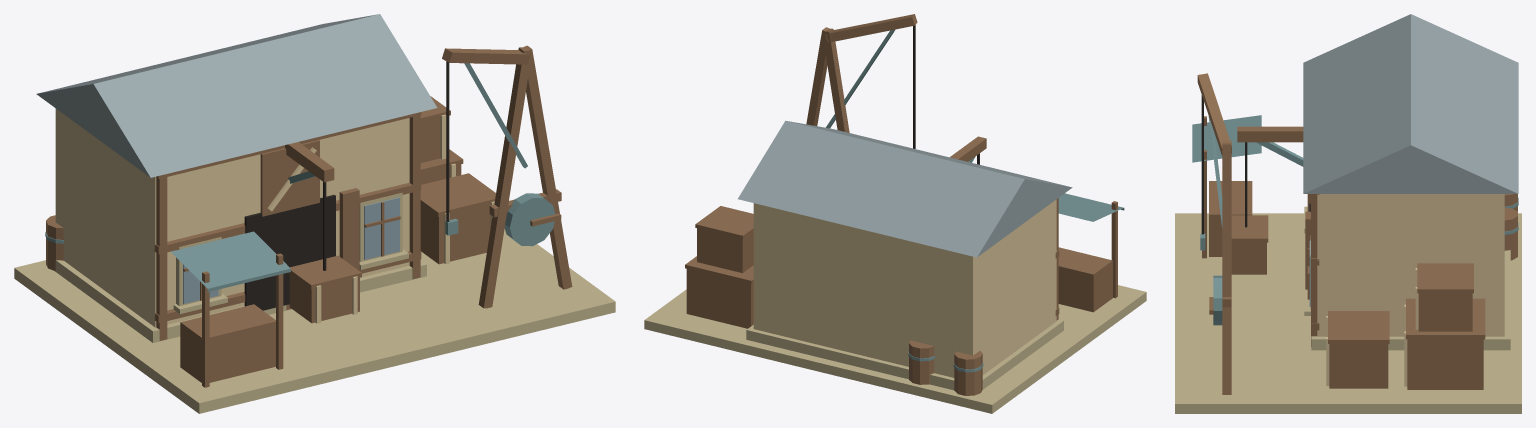
Rendered from era2-wharf-7XEkzWx8.glb.
3 renders of one model, left to right at view 1: azimuth 30°, elevation 25°; view 2: azimuth 150°, elevation 25°; view 3: azimuth 270°, elevation 25°, orthographic. The views are drawn at different scales.
Visible parts, largest first — view 1: Wharf_StoreRoof, Wharf_Yard, Wharf_Store, Wharf_TallyDesk, Wharf_CargoRecess, Wharf_CanvasAwning, Wharf_DerrickLeg, Wharf_StorePlinth, Wharf_StackCBody, Wharf_DerrickLeg.001, Wharf_LoftDoor, Wharf_StackCLid (+20 smaller); view 2: Wharf_Store, Wharf_StoreRoof, Wharf_Yard, Wharf_StorePlinth, Wharf_StackABody, Wharf_TallyDesk, Wharf_StackBBody, Wharf_StackBLid, Wharf_DerrickLeg, Wharf_Barrel, Wharf_CanvasAwning, Wharf_DerrickBoom (+6 smaller); view 3: Wharf_StoreRoof, Wharf_Yard, Wharf_Store, Wharf_StackABody, Wharf_StackCBody, Wharf_DerrickLeg.001, Wharf_StackBBody, Wharf_StackCLid, Wharf_StackBLid, Wharf_CanvasAwning, Wharf_TallyDesk, Wharf_StackALid (+13 smaller).
Boxes of the visible parts, x1=… form: Wharf_StoreRoof: x1=36, y1=14, x2=437, y2=177; Wharf_Yard: x1=14, y1=229, x2=615, y2=413; Wharf_Store: x1=55, y1=108, x2=409, y2=327; Wharf_TallyDesk: x1=180, y1=304, x2=275, y2=382; Wharf_CargoRecess: x1=244, y1=194, x2=335, y2=310; Wharf_CanvasAwning: x1=171, y1=231, x2=290, y2=291; Wharf_DerrickLeg: x1=478, y1=47, x2=531, y2=308; Wharf_StorePlinth: x1=55, y1=260, x2=426, y2=342; Wharf_StackCBody: x1=420, y1=204, x2=490, y2=264; Wharf_DerrickLeg.001: x1=523, y1=45, x2=572, y2=289; Wharf_LoftDoor: x1=260, y1=140, x2=319, y2=216; Wharf_StackCLid: x1=420, y1=173, x2=495, y2=216; Wharf_Store: x1=753, y1=199, x2=1056, y2=377; Wharf_StoreRoof: x1=738, y1=120, x2=1072, y2=257; Wharf_Yard: x1=644, y1=285, x2=1146, y2=413; Wharf_StorePlinth: x1=746, y1=319, x2=1063, y2=390; Wharf_StackABody: x1=686, y1=269, x2=753, y2=328; Wharf_TallyDesk: x1=1058, y1=247, x2=1112, y2=312; Wharf_StackBBody: x1=697, y1=228, x2=753, y2=272; Wharf_StackBLid: x1=695, y1=206, x2=753, y2=239; Wharf_DerrickLeg: x1=822, y1=28, x2=849, y2=132; Wharf_Barrel: x1=954, y1=351, x2=982, y2=395; Wharf_CanvasAwning: x1=1058, y1=193, x2=1124, y2=221; Wharf_DerrickBoom: x1=825, y1=14, x2=917, y2=42; Wharf_StoreRoof: x1=1303, y1=14, x2=1518, y2=193; Wharf_Yard: x1=1175, y1=213, x2=1521, y2=413; Wharf_Store: x1=1317, y1=194, x2=1504, y2=336; Wharf_StackABody: x1=1407, y1=339, x2=1483, y2=389; Wharf_StackCBody: x1=1329, y1=344, x2=1388, y2=388; Wharf_DerrickLeg.001: x1=1222, y1=143, x2=1231, y2=394; Wharf_StackBBody: x1=1418, y1=293, x2=1472, y2=331; Wharf_StackCLid: x1=1328, y1=311, x2=1389, y2=343; Wharf_StackBLid: x1=1417, y1=263, x2=1473, y2=293; Wharf_CanvasAwning: x1=1192, y1=115, x2=1261, y2=162; Wharf_TallyDesk: x1=1209, y1=181, x2=1252, y2=256; Wharf_StackALid: x1=1406, y1=298, x2=1485, y2=339.
Bounding box in the file's own units: 13 × 8.6 × 10.
